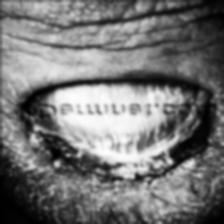Toxin: (27, 89, 211, 182)
